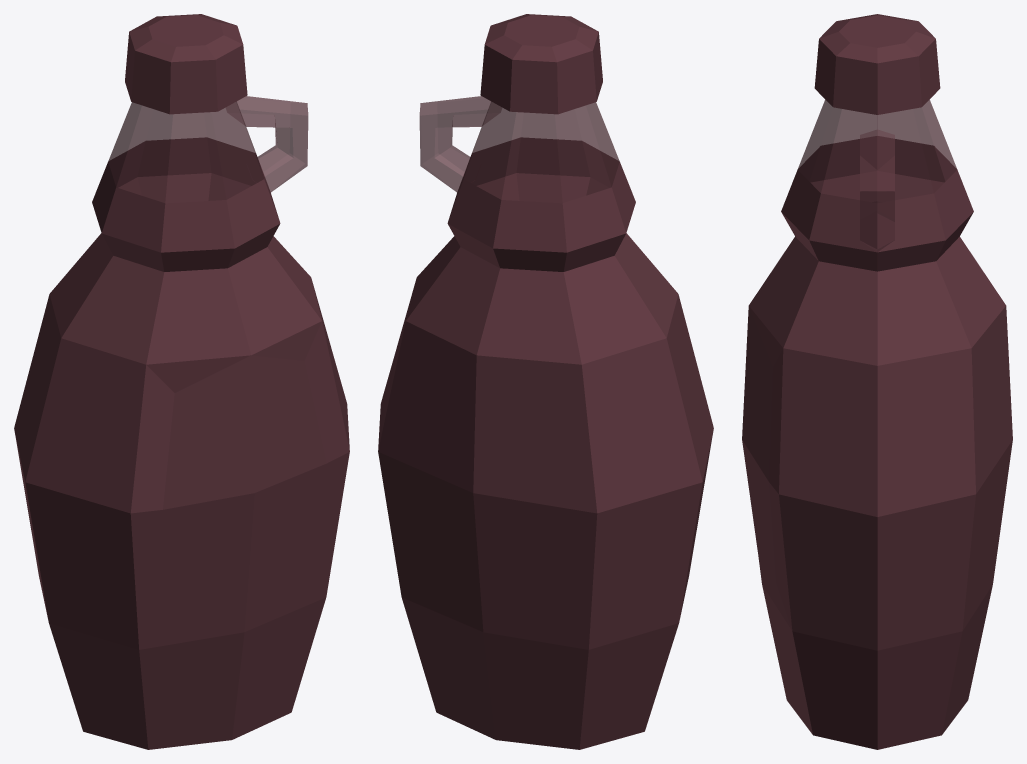
File: jar-syrup.fbx
3 renders of one model, left to right at view 1: azimuth 30°, elevation 25°; view 2: azimuth 150°, elevation 25°; view 3: azimuth 270°, elevation 25°, orthographic.
Visible parts, largest first — view 1: jar-syrup; view 2: jar-syrup; view 3: jar-syrup.
Part boxes in pixels (x1,y1,x2,y2): jar-syrup: [14, 14, 349, 749]; jar-syrup: [378, 14, 713, 749]; jar-syrup: [742, 14, 1012, 749].
Size of the model in its own units: 0.1062 by 0.2155 by 0.0782.
